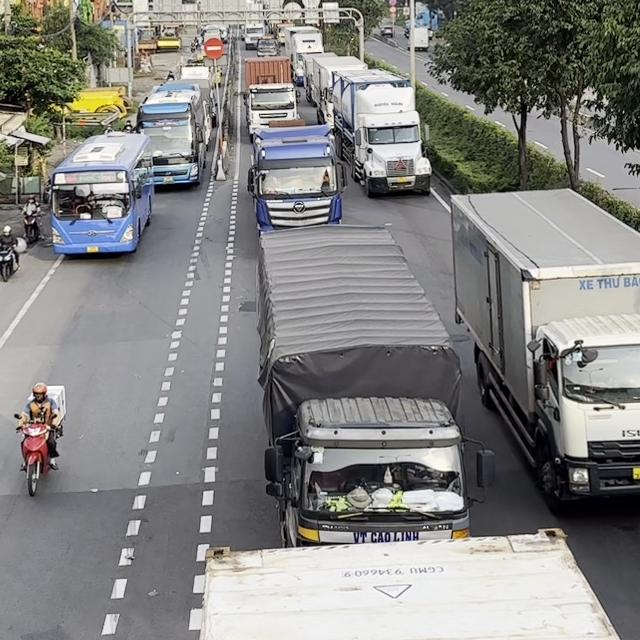bus: (48, 130, 155, 257), (134, 87, 209, 187)
motorcycle: (13, 410, 60, 496), (19, 207, 44, 244), (0, 238, 20, 282)
truck: (255, 223, 492, 547), (449, 186, 639, 506), (192, 525, 625, 640), (323, 68, 432, 197), (246, 123, 347, 235), (240, 58, 302, 142), (302, 52, 368, 123), (284, 25, 324, 86)
